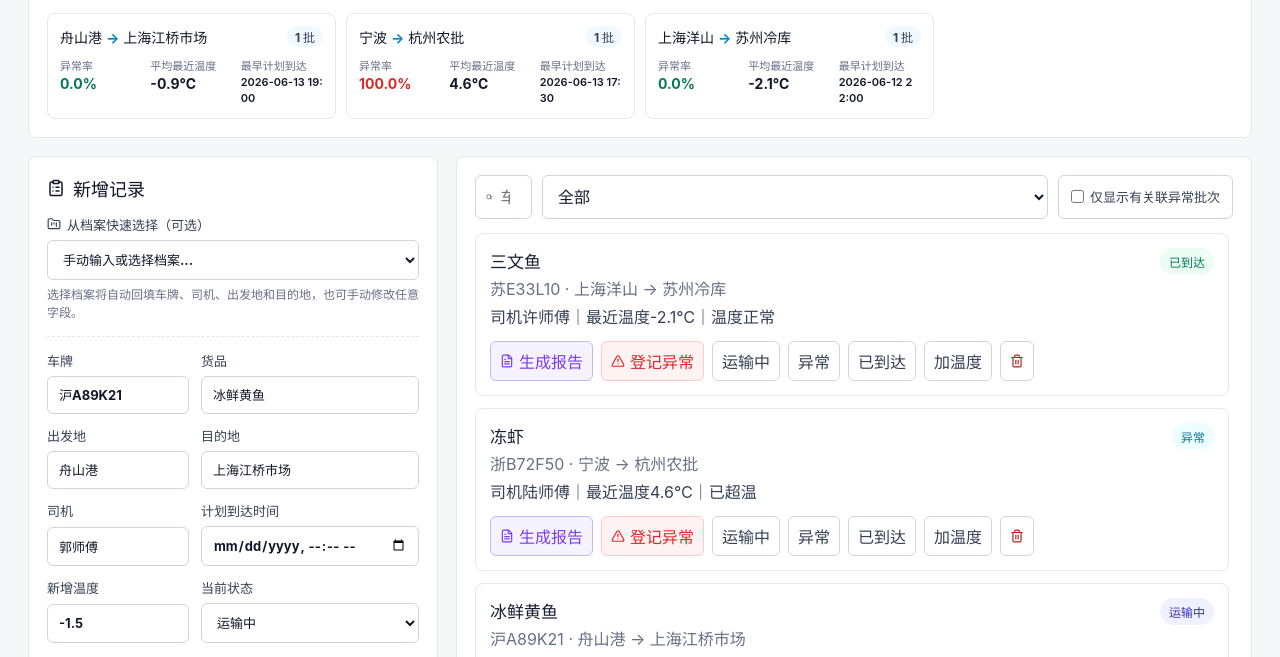
Test case: App 冒烟测试 - 核心页面路径 › 报告生成 › 报告包含温度统计
The width and height of the screenshot is (1280, 657).
(page scrolled)
Click the 1st button "生成报告". click: x=542, y=361
box: [490, 341, 593, 381]
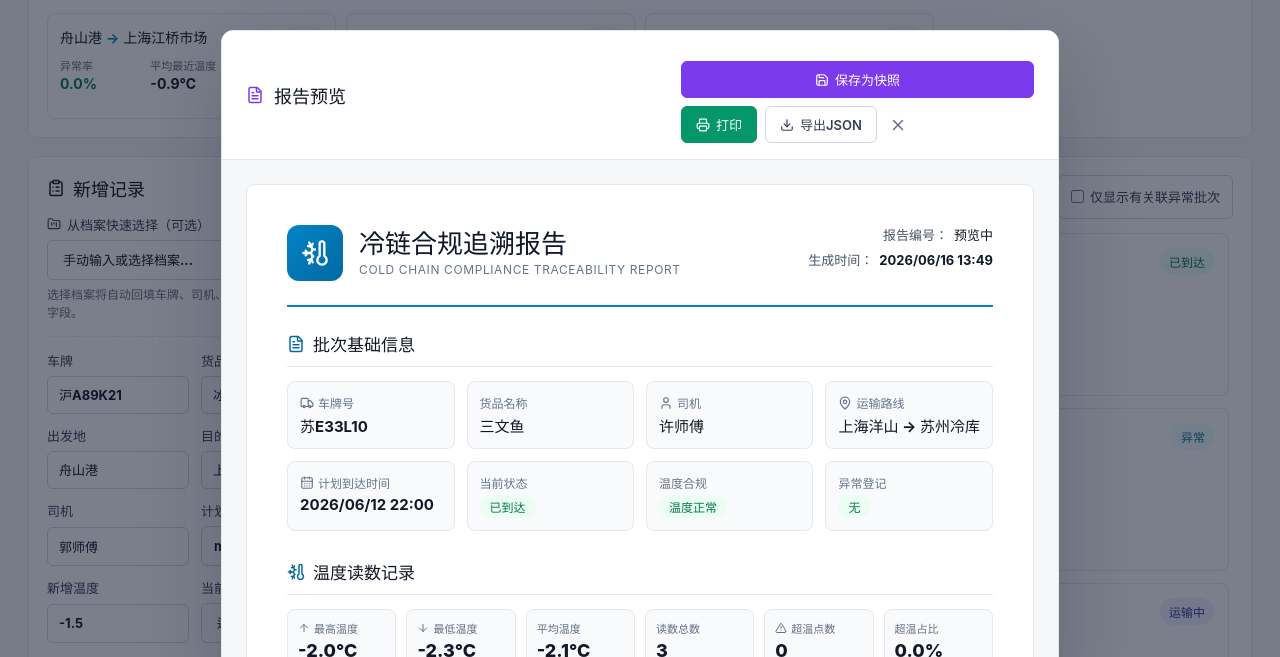
Now the text "最高温度" is shown, box [298, 622, 358, 636]
Now the text "最低温度" is shown, box [417, 622, 477, 636]
Now the text "平均温度" is shown, box [537, 622, 581, 636]
